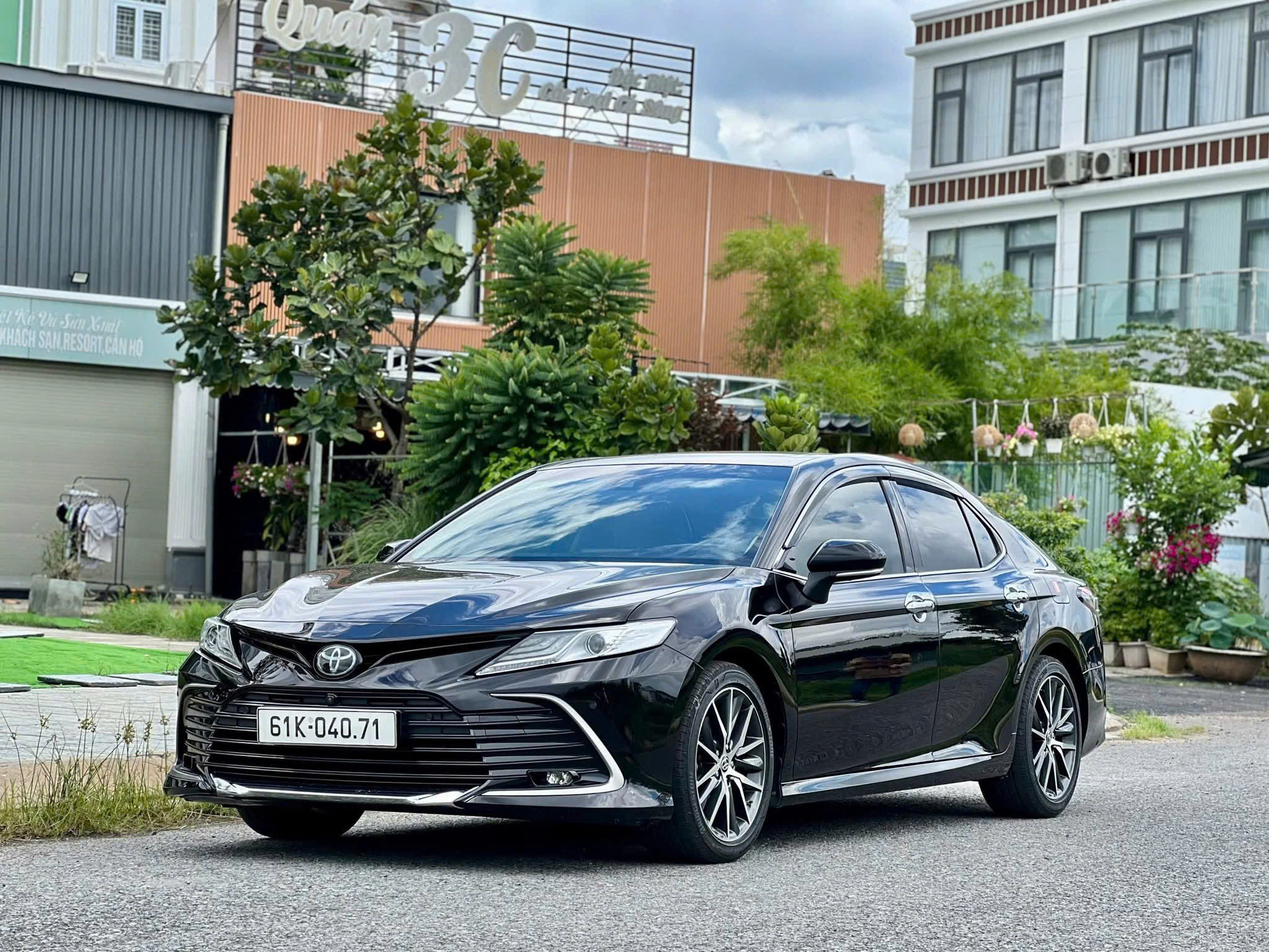Bien-so: (256, 703, 396, 751)
